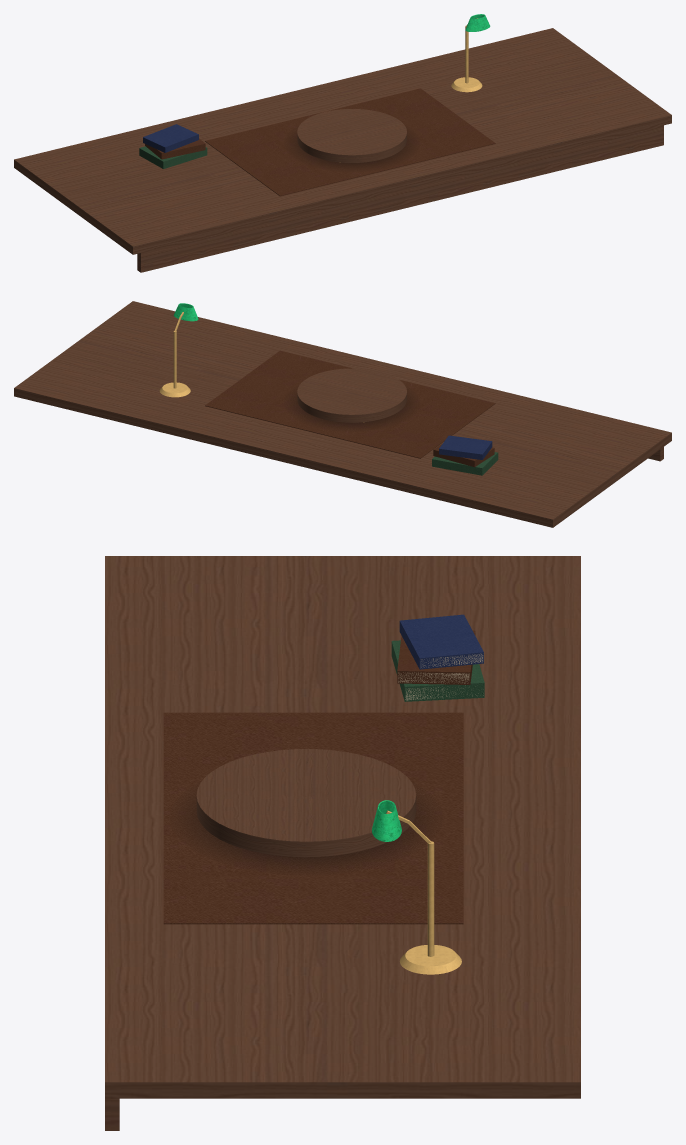
Rendered from orrery-study.glb.
The picture shows the model from 3 angles, top to bottom: view 1: azimuth 30°, elevation 25°; view 2: azimuth 150°, elevation 25°; view 3: azimuth 270°, elevation 25°; orthographic projection. The views are drawn at different scales.
Parts seen in each view (by area): view 1: desk-top, blotter, desk-apron, plinth, book-2, contact-shadow, book-0, lamp-base, book-1; view 2: desk-top, blotter, plinth, book-2, contact-shadow, book-0, lamp-base, book-1; view 3: desk-top, blotter, plinth, book-2, contact-shadow, lamp-base, book-0, book-1, lamp-shade.
Boxes of the visible parts, x1=… form: desk-top: x1=14, y1=28, x2=671, y2=254; blotter: x1=205, y1=88, x2=495, y2=196; desk-apron: x1=137, y1=125, x2=663, y2=272; plinth: x1=297, y1=109, x2=406, y2=162; book-2: x1=143, y1=124, x2=198, y2=152; contact-shadow: x1=293, y1=135, x2=410, y2=167; book-0: x1=139, y1=146, x2=207, y2=168; lamp-base: x1=451, y1=26, x2=482, y2=92; book-1: x1=145, y1=138, x2=205, y2=159; desk-top: x1=14, y1=301, x2=671, y2=527; blotter: x1=205, y1=350, x2=495, y2=458; plinth: x1=297, y1=368, x2=406, y2=422; book-2: x1=439, y1=435, x2=492, y2=459; contact-shadow: x1=293, y1=395, x2=410, y2=427; book-0: x1=432, y1=452, x2=498, y2=475; lamp-base: x1=159, y1=331, x2=190, y2=397; book-1: x1=433, y1=443, x2=494, y2=467; desk-top: x1=105, y1=556, x2=580, y2=1098; blotter: x1=163, y1=712, x2=463, y2=924; plinth: x1=196, y1=749, x2=416, y2=857; book-2: x1=399, y1=614, x2=483, y2=669; contact-shadow: x1=189, y1=802, x2=423, y2=866; lamp-base: x1=399, y1=841, x2=461, y2=974; book-0: x1=391, y1=640, x2=484, y2=701; book-1: x1=397, y1=630, x2=475, y2=684; lamp-shade: x1=372, y1=800, x2=401, y2=841.
Size of the model in its own units: 3.4 by 0.635 by 1.3.
Materials: 8 (8 with a texture image).
